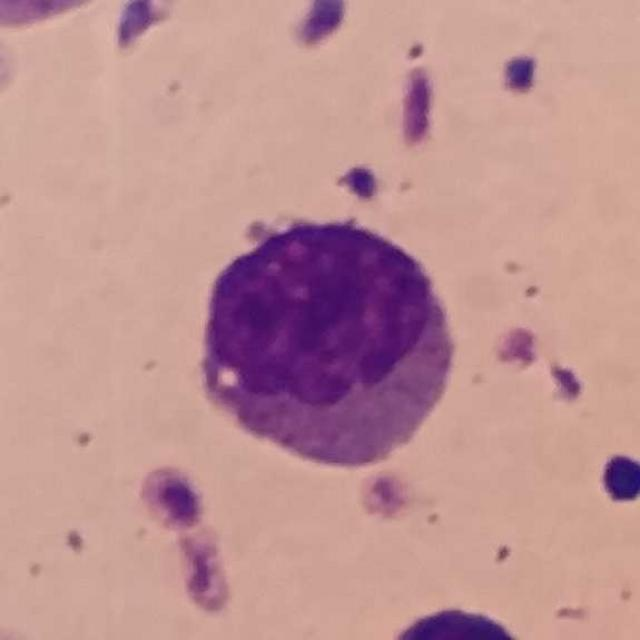Lymphocyte: (180, 193, 471, 487)
Platelets: (387, 61, 444, 156), (136, 462, 210, 535), (357, 468, 418, 526), (288, 0, 352, 52), (489, 322, 543, 374), (595, 449, 640, 508), (494, 48, 544, 101), (335, 159, 385, 205), (545, 360, 589, 408)
